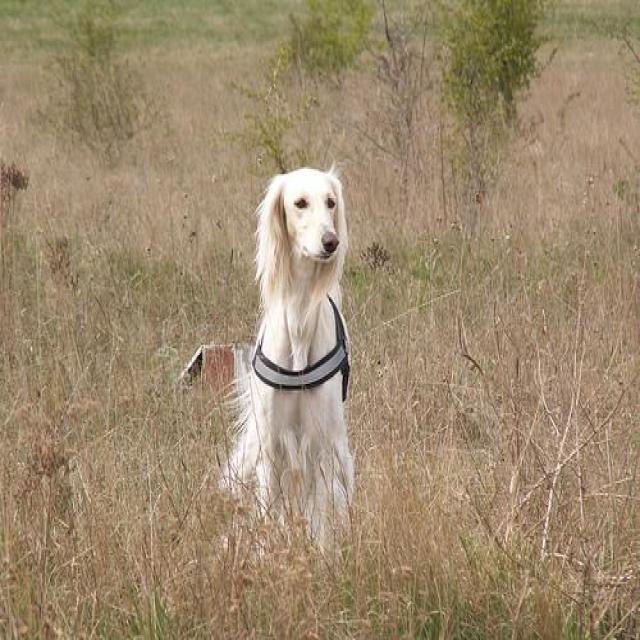saluki: (222, 157, 354, 539)
